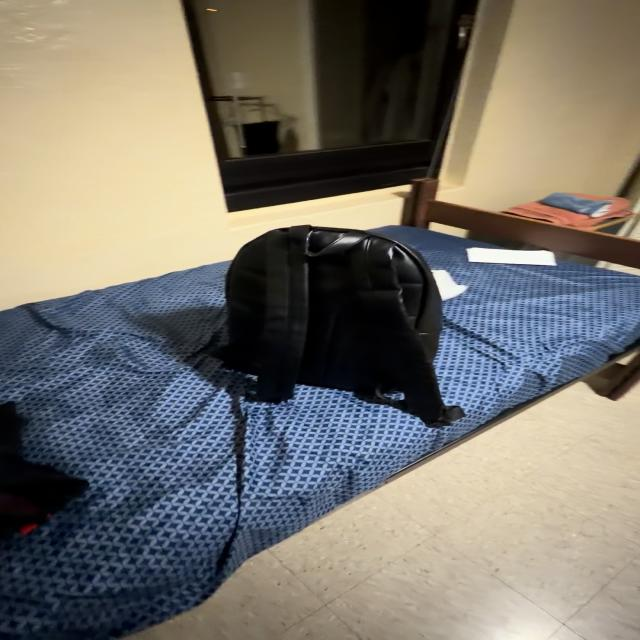backpack: (218, 225, 462, 425)
